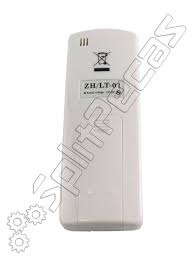remote control: (64, 26, 139, 237)
